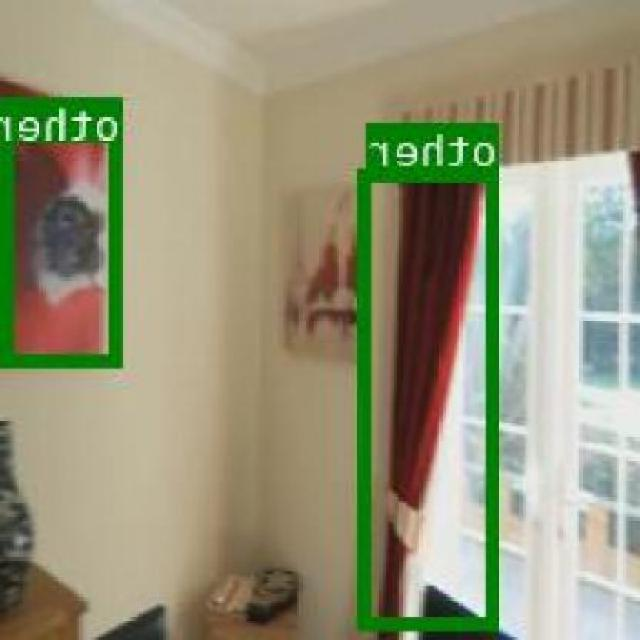other: (361, 167, 501, 627), (5, 95, 126, 362)
